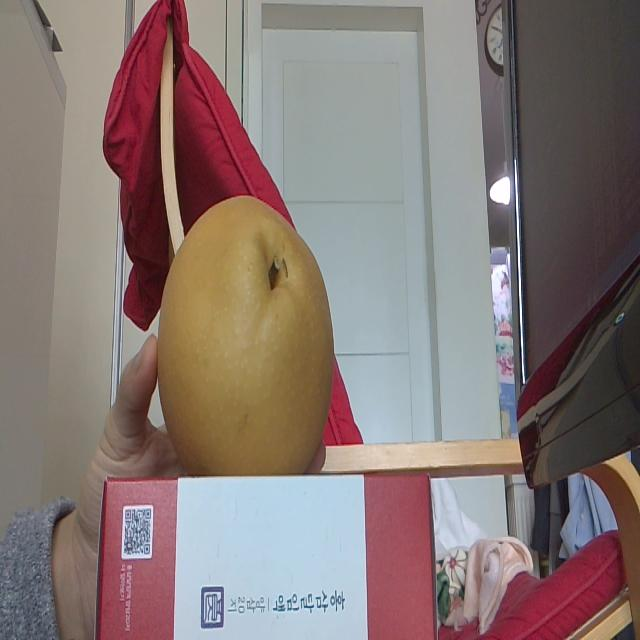pear: (157, 194, 336, 471)
